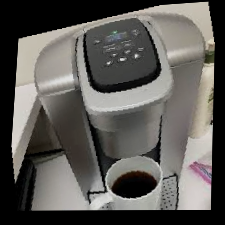10oz: (118, 56, 127, 62)
12oz: (132, 53, 141, 59)
4oz: (109, 52, 118, 57)
6oz: (123, 49, 132, 54)
8oz: (104, 60, 113, 66)
